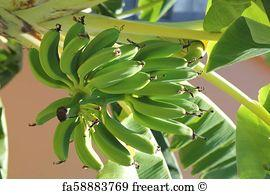Banana Unripe: (9, 22, 229, 174)
